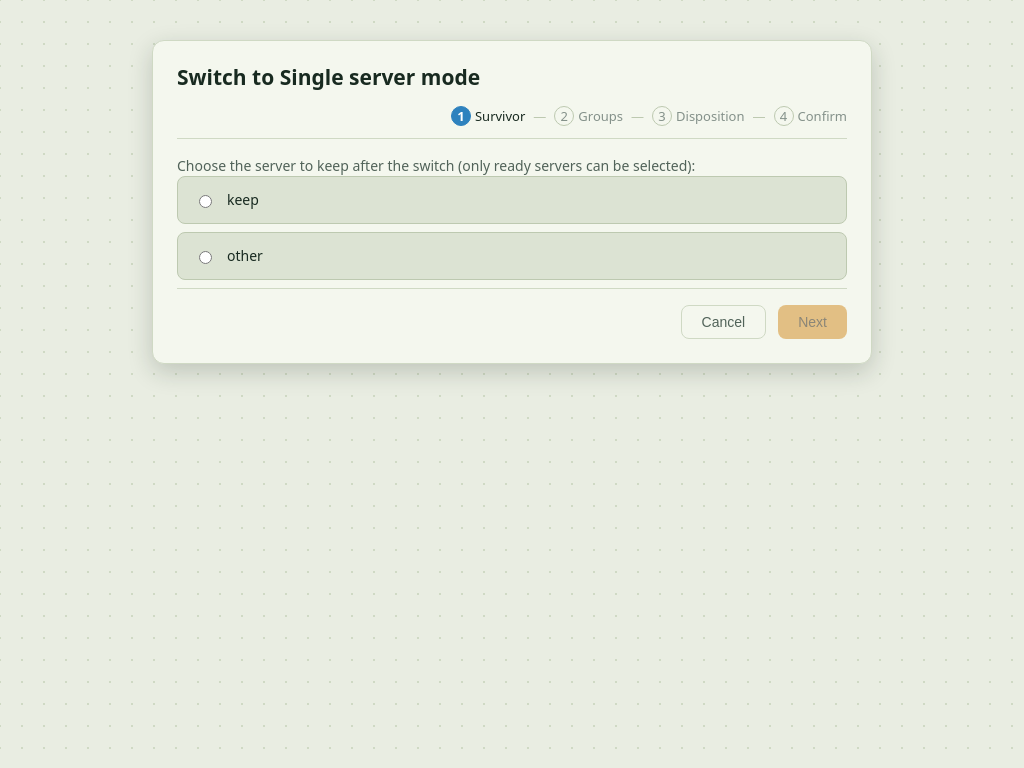
Test: TransferWizard › 步骤名与动态台数文案从词典响应，并保留实际服务器名
Click the radio button labelled "keep" at (206, 202), box [199,195,212,208]
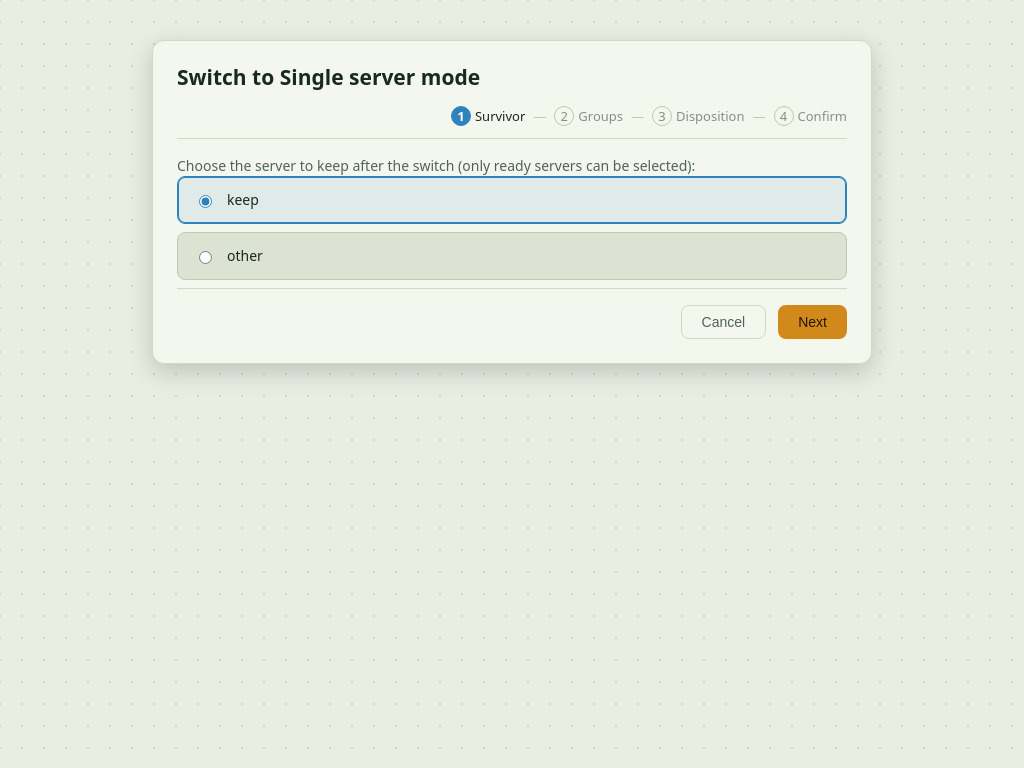
Click the button "Next" at (813, 322), box [778,305,847,339]
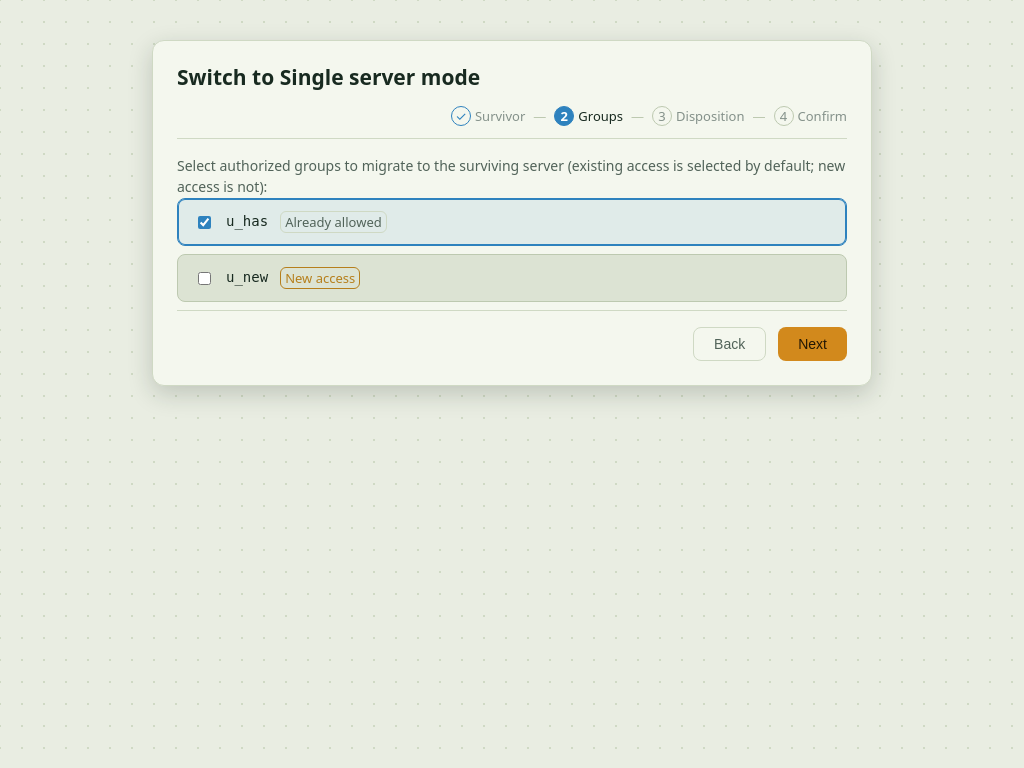
Click the button "Next" at (813, 344), box [778,327,847,361]
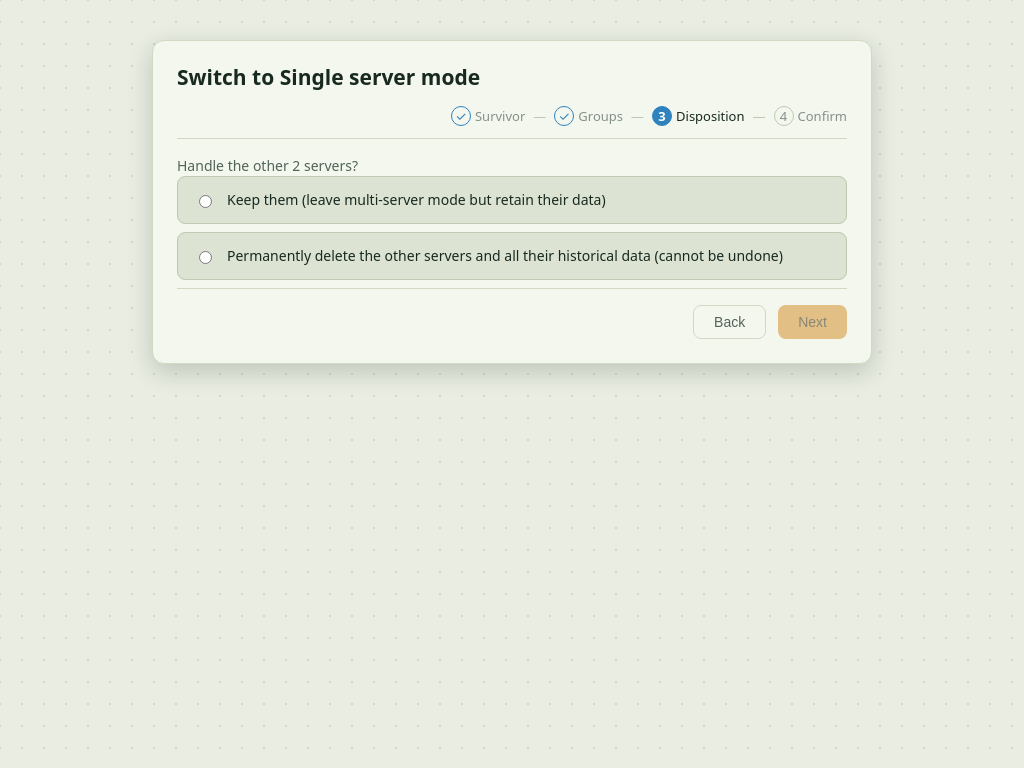
Expected: the text "Handle the other 2 servers?" is shown, [177,156,358,175]
